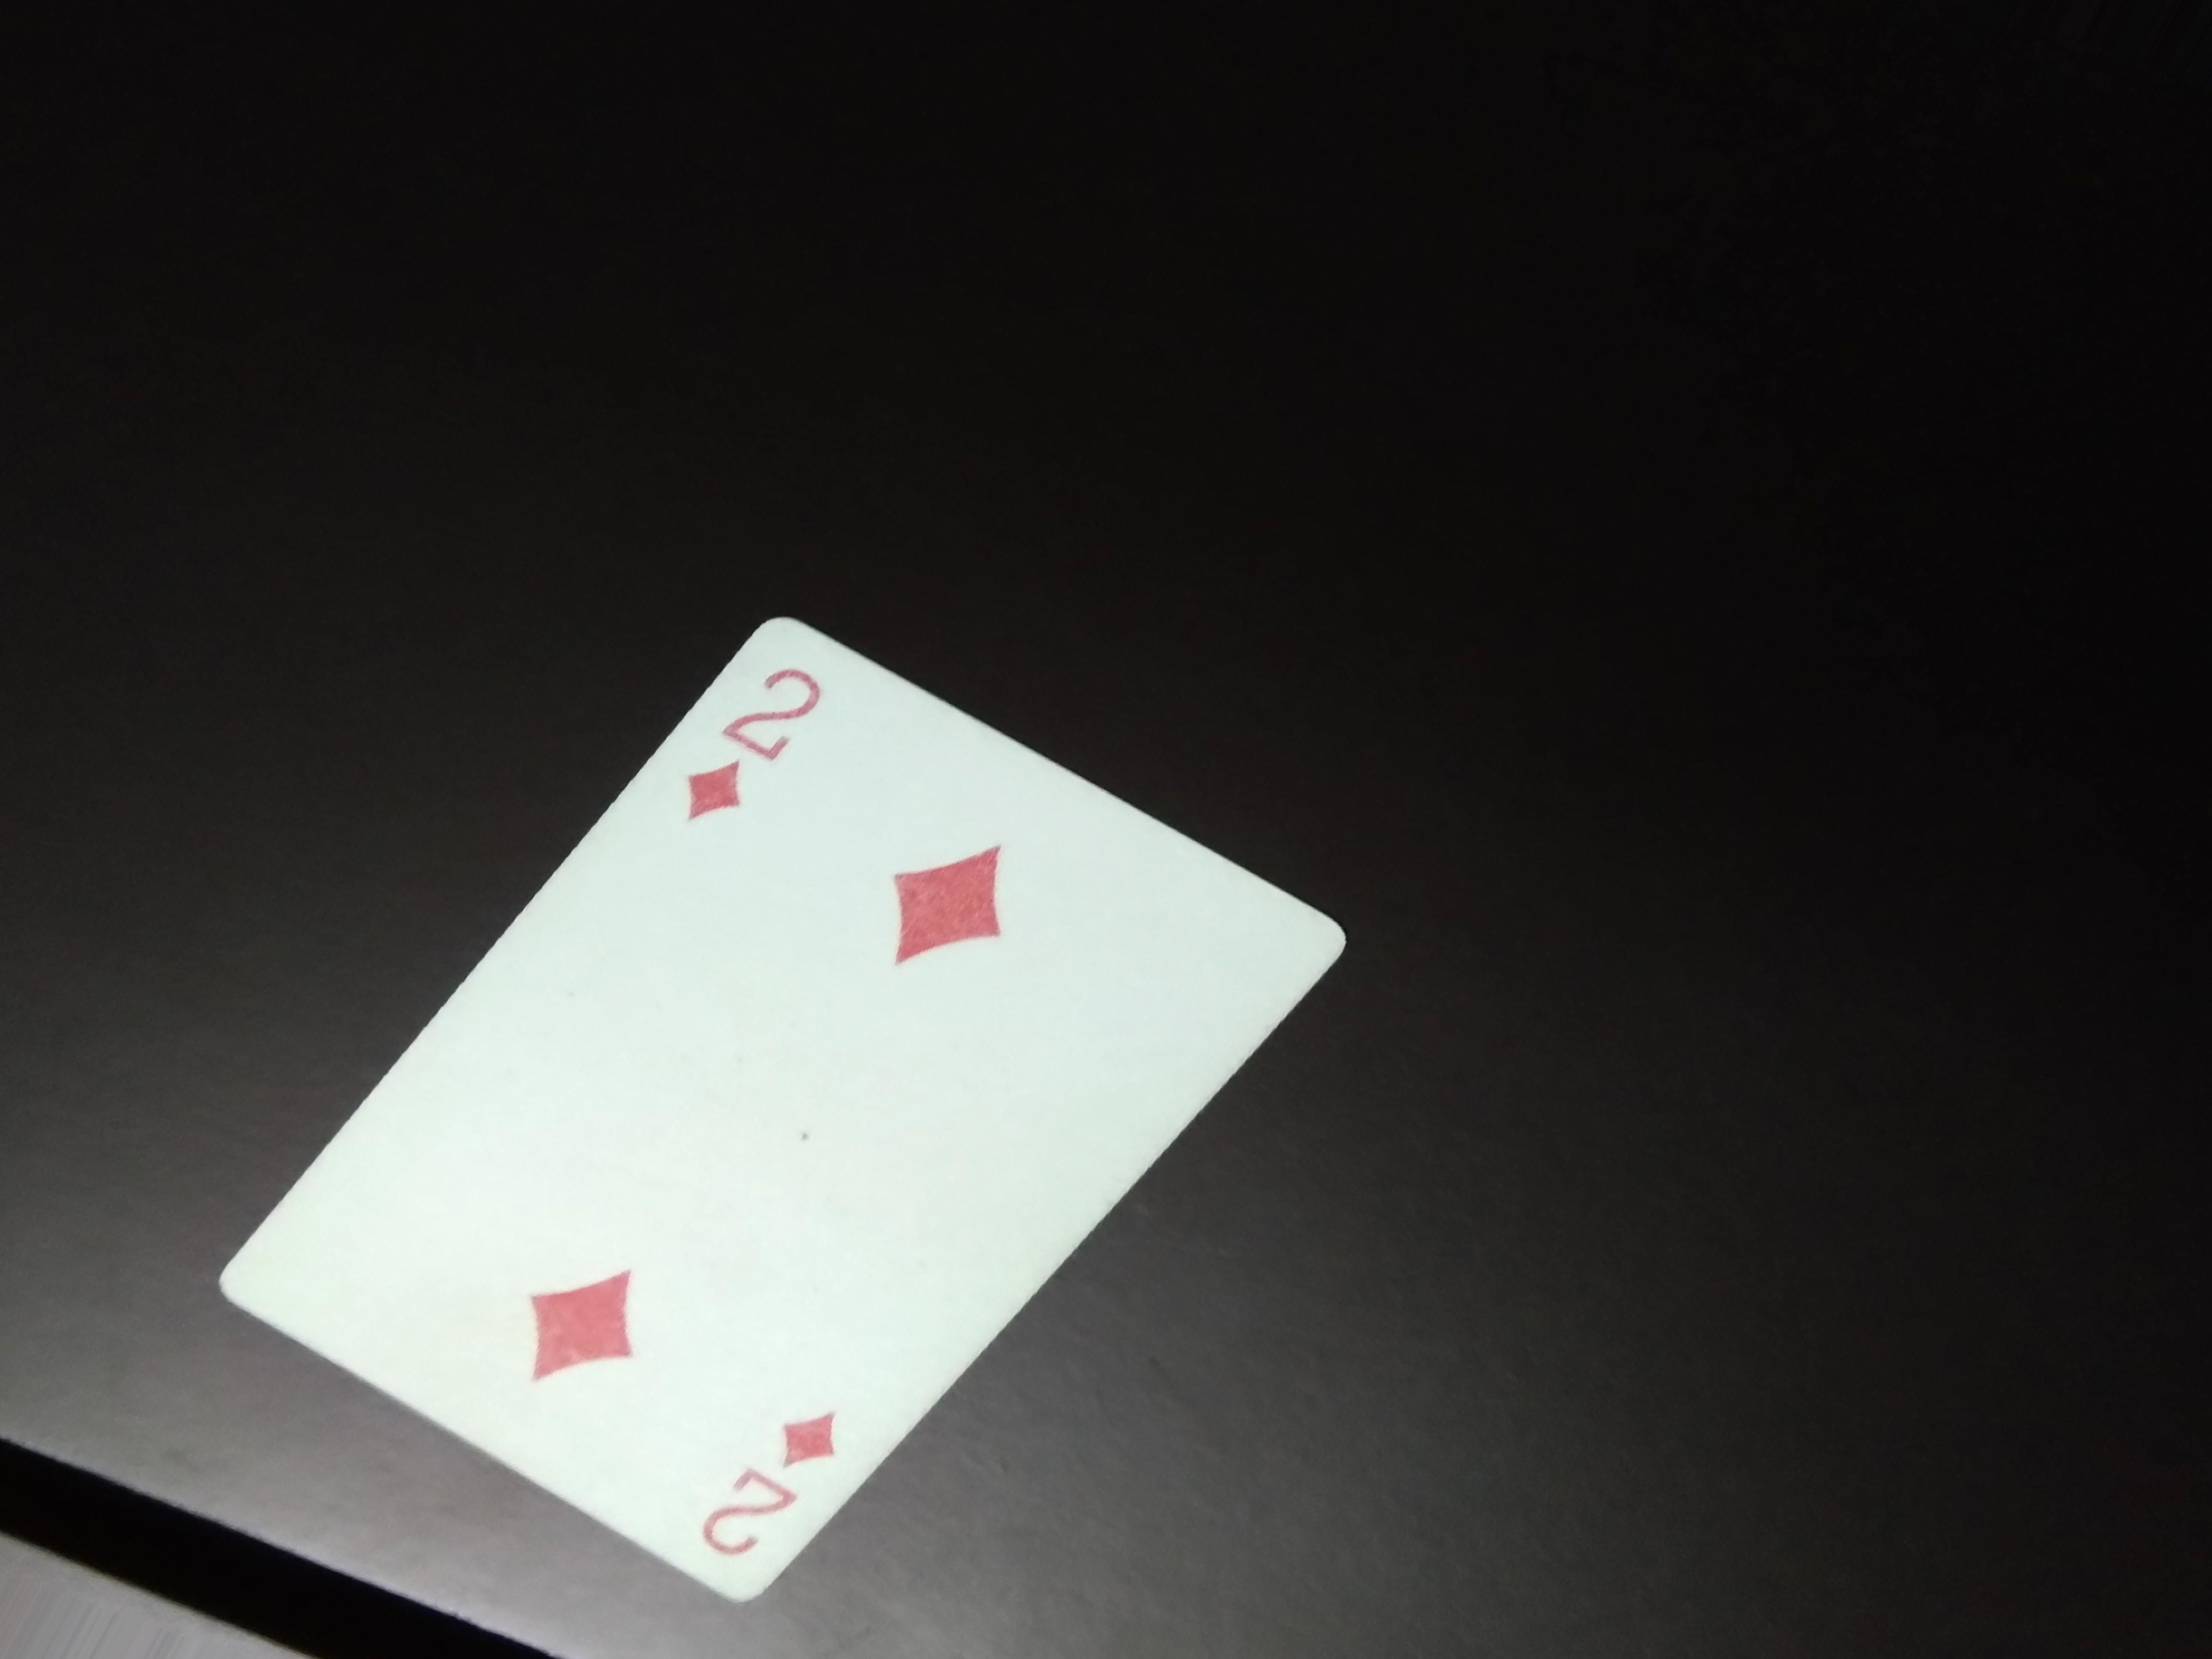2D: (655, 650, 838, 840)
